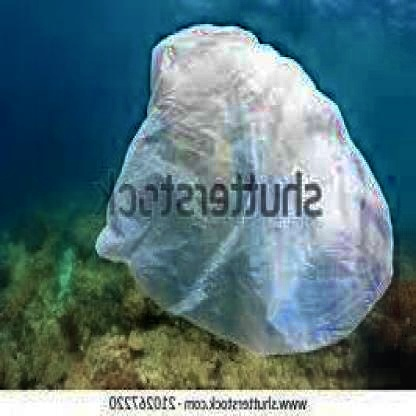pbag: (91, 15, 400, 359)
